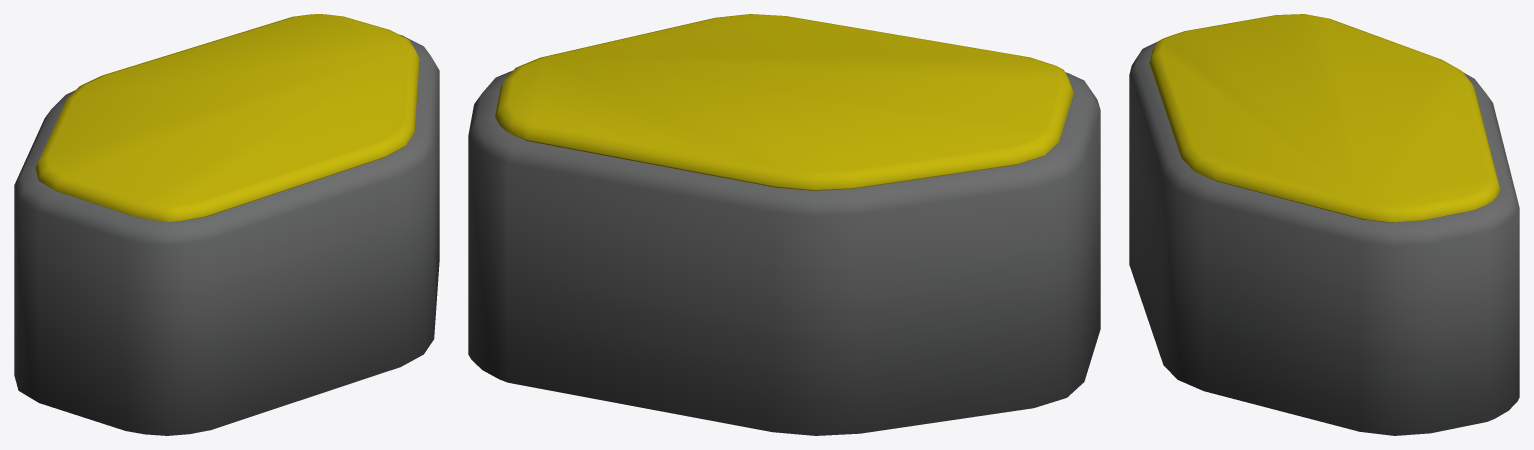
File: Rock2.fbx
The picture shows the model from 3 angles, left to right: view 1: azimuth 30°, elevation 25°; view 2: azimuth 150°, elevation 25°; view 3: azimuth 270°, elevation 25°; orthographic projection. The views are drawn at different scales.
Parts seen in each view (by area): view 1: Rock2; view 2: Rock2; view 3: Rock2.
Part boxes in pixels (x1,y1,x2,y2): Rock2: (14, 14, 439, 435); Rock2: (468, 14, 1100, 435); Rock2: (1129, 14, 1519, 435).
Bounding box in the file's own units: 1601 × 723 × 1192.
